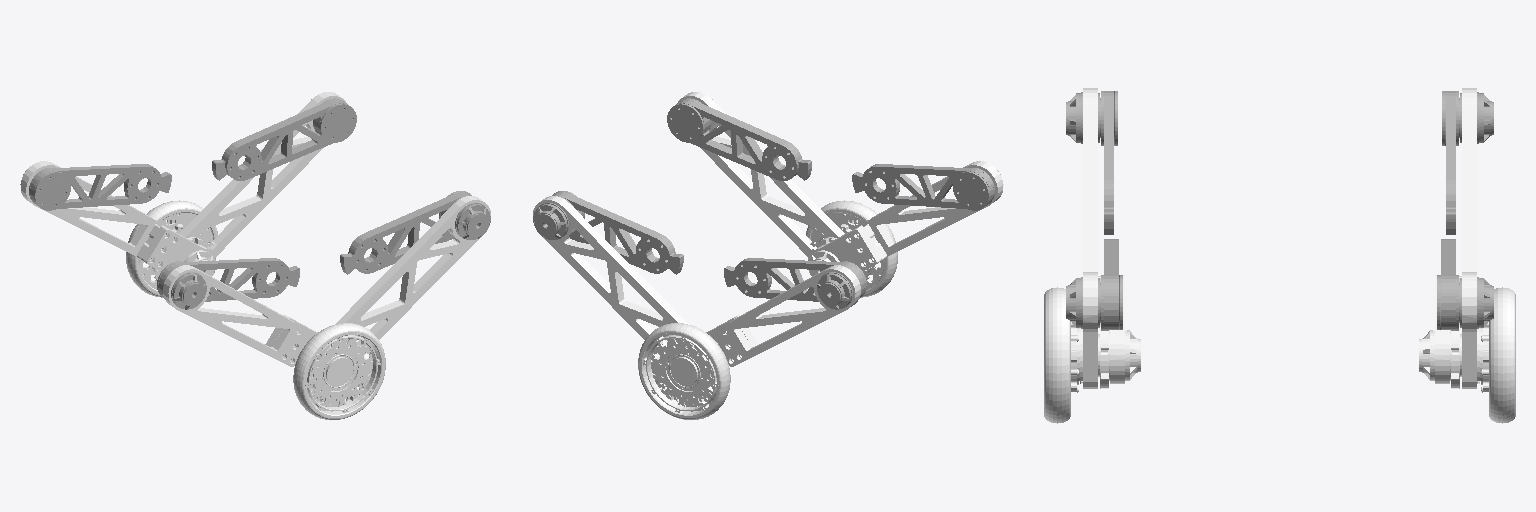
URDF robot description (chassis-rl):
<?xml version="1.0" encoding="utf-8"?>
<!-- This URDF was automatically created by SolidWorks to URDF Exporter! Originally created by Stephen Brawner (brawner@gmail.com) 
     Commit Version: 1.6.0-4-g7f85cfe  Build Version: 1.6.7995.38578
     For more information, please see http://wiki.ros.org/sw_urdf_exporter -->
<!--
  Joint <limit> values are referenced to the joint zero (q = 0 = CAD assembly pose, the
  retracted end of the mechanical stroke).  They are derived from the two stroke-end
  ABSOLUTE link angles recorded in 底盘数据.txt: for a hip, the travel is the change of the
  ham angle; for a knee it is the change of the calf angle RELATIVE to the ham
  (dq = d(calf) - d(ham), ~114.5 deg), because the ham itself rotates too.  The knee values
  are taken from the closed-loop-consistent pose at the stroke end.  The full mechanical
  stroke is preserved (leg length 144.8 mm -> 389.7 mm) and q = 0 lies inside every range;
  read literally as absolute angles, the old values put q = 0 outside six joints and PhysX
  clamped the mechanism on the first step.
-->
<robot
  name="chassis-rl">
  <link
    name="base_link">
    <inertial>
      <origin
        xyz="-0.0067139 -0.00018909 0.0055232"
        rpy="0 0 0" />
      <mass
        value="11.339" />
      <inertia
        ixx="0.013783"
        ixy="-3.6529E-06"
        ixz="-1.0162E-05"
        iyy="0.028471"
        iyz="1.9216E-06"
        izz="0.016412" />
    </inertial>
    <visual>
      <origin
        xyz="0 0 0"
        rpy="0 0 0" />
      <geometry>
        <mesh
          filename="package://chassis-rl/meshes/base_link.STL" />
      </geometry>
      <material
        name="">
        <color
          rgba="1 1 1 1" />
      </material>
    </visual>
    <collision>
      <origin
        xyz="0 0 0"
        rpy="0 0 0" />
      <geometry>
        <mesh
          filename="package://chassis-rl/meshes/base_link.STL" />
      </geometry>
    </collision>
  </link>
  <link
    name="left_front_ham">
    <inertial>
      <origin
        xyz="0.096345 0.0047072 0.017243"
        rpy="0 0 0" />
      <mass
        value="0.34034" />
      <inertia
        ixx="0.00011924"
        ixy="1.7575E-06"
        ixz="-0.00011569"
        iyy="0.00081315"
        iyz="3.1438E-07"
        izz="0.00074173" />
    </inertial>
    <visual>
      <origin
        xyz="0 0 0"
        rpy="0 0 0" />
      <geometry>
        <mesh
          filename="package://chassis-rl/meshes/left_front_ham.STL" />
      </geometry>
      <material
        name="">
        <color
          rgba="0.75294 0.75294 0.75294 1" />
      </material>
    </visual>
    <collision>
      <origin
        xyz="0 0 0"
        rpy="0 0 0" />
      <geometry>
        <mesh
          filename="package://chassis-rl/meshes/left_front_ham.STL" />
      </geometry>
    </collision>
  </link>
  <joint
    name="left_front_hip"
    type="revolute">
    <origin
      xyz="0.071525 0.16831 0.030406"
      rpy="0 0 0" />
    <parent
      link="base_link" />
    <child
      link="left_front_ham" />
    <axis
      xyz="0 -1 0" />
    <limit
      lower="-1.488940"
      upper="0.000100"
      effort="40"
      velocity="16.755" />
  </joint>
  <link
    name="left_front_calf">
    <inertial>
      <origin
        xyz="-0.15446 -0.0015817 -0.1132"
        rpy="0 0 0" />
      <mass
        value="0.884" />
      <inertia
        ixx="0.0017587"
        ixy="2.0038E-06"
        ixz="-0.0019248"
        iyy="0.0046642"
        iyz="1.9296E-06"
        izz="0.0029982" />
    </inertial>
    <visual>
      <origin
        xyz="0 0 0"
        rpy="0 0 0" />
      <geometry>
        <mesh
          filename="package://chassis-rl/meshes/left_front_calf.STL" />
      </geometry>
      <material
        name="">
        <color
          rgba="1 1 1 1" />
      </material>
    </visual>
    <collision>
      <origin
        xyz="0 0 0"
        rpy="0 0 0" />
      <geometry>
        <mesh
          filename="package://chassis-rl/meshes/left_front_calf.STL" />
      </geometry>
    </collision>
  </link>
  <joint
    name="left_front_knee"
    type="revolute">
    <origin
      xyz="0.14273 0.021 0.025547"
      rpy="0 0 0" />
    <parent
      link="left_front_ham" />
    <child
      link="left_front_calf" />
    <axis
      xyz="0 -1 0" />
    <limit
      lower="-0.000100"
      upper="1.999047"
      effort="40"
      velocity="16.755" />
  </joint>
  <link
    name="left_wheel">
    <inertial>
      <origin
        xyz="1.2603E-14 -0.0039251 9.9781E-15"
        rpy="0 0 0" />
      <mass
        value="0.337" />
      <inertia
        ixx="0.00048617"
        ixy="4.6512E-18"
        ixz="-2.874E-07"
        iyy="0.00095993"
        iyz="8.0586E-18"
        izz="0.00048652" />
    </inertial>
    <visual>
      <origin
        xyz="0 0 0"
        rpy="0 0 0" />
      <geometry>
        <mesh
          filename="package://chassis-rl/meshes/left_wheel.STL" />
      </geometry>
      <material
        name="">
        <color
          rgba="1 1 1 1" />
      </material>
    </visual>
    <collision>
      <origin
        xyz="0 0 0"
        rpy="0 0 0" />
      <geometry>
        <mesh
          filename="package://chassis-rl/meshes/left_wheel.STL" />
      </geometry>
    </collision>
  </link>
  <joint
    name="wheel_left"
    type="continuous">
    <origin
      xyz="-0.21773 0.034945 -0.15966"
      rpy="0 0 0" />
    <parent
      link="left_front_calf" />
    <child
      link="left_wheel" />
    <axis
      xyz="0 -1 0" />
    <limit
      effort="4.92"
      velocity="61.4705" />
  </joint>
  <link
    name="left_back_ham">
    <inertial>
      <origin
        xyz="-0.10143 0.0054426 0.018159"
        rpy="0 0 0" />
      <mass
        value="0.26495" />
      <inertia
        ixx="8.4309E-05"
        ixy="-2.2099E-10"
        ixz="8.0509E-05"
        iyy="0.00057487"
        iyz="8.2261E-10"
        izz="0.0005218" />
    </inertial>
    <visual>
      <origin
        xyz="0 0 0"
        rpy="0 0 0" />
      <geometry>
        <mesh
          filename="package://chassis-rl/meshes/left_back_ham.STL" />
      </geometry>
      <material
        name="">
        <color
          rgba="0.75294 0.75294 0.75294 1" />
      </material>
    </visual>
    <collision>
      <origin
        xyz="0 0 0"
        rpy="0 0 0" />
      <geometry>
        <mesh
          filename="package://chassis-rl/meshes/left_back_ham.STL" />
      </geometry>
    </collision>
  </link>
  <joint
    name="left_back_hip"
    type="revolute">
    <origin
      xyz="-0.078475 0.17081 0.030406"
      rpy="0 0 0" />
    <parent
      link="base_link" />
    <child
      link="left_back_ham" />
    <axis
      xyz="0 -1 0" />
    <limit
      lower="-0.000100"
      upper="1.489639"
      effort="40"
      velocity="16.755" />
  </joint>
  <link
    name="left_back_calf">
    <inertial>
      <origin
        xyz="0.11689 -0.0085987 -0.086919"
        rpy="0 0 0" />
      <mass
        value="0.35489" />
      <inertia
        ixx="0.00051979"
        ixy="6.742E-07"
        ixz="0.00053625"
        iyy="0.0013558"
        iyz="-5.4728E-07"
        izz="0.0008489" />
    </inertial>
    <visual>
      <origin
        xyz="0 0 0"
        rpy="0 0 0" />
      <geometry>
        <mesh
          filename="package://chassis-rl/meshes/left_back_calf.STL" />
      </geometry>
      <material
        name="">
        <color
          rgba="1 1 1 1" />
      </material>
    </visual>
    <collision>
      <origin
        xyz="0 0 0"
        rpy="0 0 0" />
      <geometry>
        <mesh
          filename="package://chassis-rl/meshes/left_back_calf.STL" />
      </geometry>
    </collision>
  </link>
  <joint
    name="left_back_knee"
    type="revolute">
    <origin
      xyz="-0.14273 0.0185 0.025549"
      rpy="0 0 0" />
    <parent
      link="left_back_ham" />
    <child
      link="left_back_calf" />
    <axis
      xyz="0 -1 0" />
    <limit
      lower="-1.999500"
      upper="0.000100"
      effort="40"
      velocity="16.755" />
  </joint>
  <link
    name="right_back_ham">
    <inertial>
      <origin
        xyz="0.10123 0.005343 0.018123"
        rpy="0 0 0" />
      <mass
        value="0.26364" />
      <inertia
        ixx="8.4073E-05"
        ixy="2.1027E-10"
        ixz="-8.0509E-05"
        iyy="0.00057442"
        iyz="7.8315E-10"
        izz="0.00052156" />
    </inertial>
    <visual>
      <origin
        xyz="0 0 0"
        rpy="0 0 0" />
      <geometry>
        <mesh
          filename="package://chassis-rl/meshes/right_back_ham.STL" />
      </geometry>
      <material
        name="">
        <color
          rgba="0.75294 0.75294 0.75294 1" />
      </material>
    </visual>
    <collision>
      <origin
        xyz="0 0 0"
        rpy="0 0 0" />
      <geometry>
        <mesh
          filename="package://chassis-rl/meshes/right_back_ham.STL" />
      </geometry>
    </collision>
  </link>
  <joint
    name="right_back_hip"
    type="revolute">
    <origin
      xyz="-0.078475 -0.17019 0.030406"
      rpy="0 0 -3.1416" />
    <parent
      link="base_link" />
    <child
      link="right_back_ham" />
    <axis
      xyz="0 -1 0" />
    <limit
      lower="-1.489639"
      upper="0.000100"
      effort="40"
      velocity="16.755" />
  </joint>
  <link
    name="right_back_calf">
    <inertial>
      <origin
        xyz="-0.11906 -0.0091591 -0.088474"
        rpy="0 0 0" />
      <mass
        value="0.36608" />
      <inertia
        ixx="0.00052488"
        ixy="-6.9306E-07"
        ixz="-0.00053875"
        iyy="0.0013671"
        iyz="-5.6111E-07"
        izz="0.00085556" />
    </inertial>
    <visual>
      <origin
        xyz="0 0 0"
        rpy="0 0 0" />
      <geometry>
        <mesh
          filename="package://chassis-rl/meshes/right_back_calf.STL" />
      </geometry>
      <material
        name="">
        <color
          rgba="1 1 1 1" />
      </material>
    </visual>
    <collision>
      <origin
        xyz="0 0 0"
        rpy="0 0 0" />
      <geometry>
        <mesh
          filename="package://chassis-rl/meshes/right_back_calf.STL" />
      </geometry>
    </collision>
  </link>
  <joint
    name="right_back_knee"
    type="revolute">
    <origin
      xyz="0.14273 0.0185 0.025549"
      rpy="0 0 0" />
    <parent
      link="right_back_ham" />
    <child
      link="right_back_calf" />
    <axis
      xyz="0 -1 0" />
    <limit
      lower="-0.000100"
      upper="1.999500"
      effort="40"
      velocity="16.755" />
  </joint>
  <link
    name="right_front_ham">
    <inertial>
      <origin
        xyz="-0.096166 0.0046172 0.017211"
        rpy="0 0 0" />
      <mass
        value="0.33903" />
      <inertia
        ixx="0.00011901"
        ixy="-1.7575E-06"
        ixz="0.00011569"
        iyy="0.0008127"
        iyz="3.144E-07"
        izz="0.0007415" />
    </inertial>
    <visual>
      <origin
        xyz="0 0 0"
        rpy="0 0 0" />
      <geometry>
        <mesh
          filename="package://chassis-rl/meshes/right_front_ham.STL" />
      </geometry>
      <material
        name="">
        <color
          rgba="0.75294 0.75294 0.75294 1" />
      </material>
    </visual>
    <collision>
      <origin
        xyz="0 0 0"
        rpy="0 0 0" />
      <geometry>
        <mesh
          filename="package://chassis-rl/meshes/right_front_ham.STL" />
      </geometry>
    </collision>
  </link>
  <joint
    name="right_front_hip"
    type="revolute">
    <origin
      xyz="0.071525 -0.16769 0.030406"
      rpy="0 0 -3.1416" />
    <parent
      link="base_link" />
    <child
      link="right_front_ham" />
    <axis
      xyz="0 -1 0" />
    <limit
      lower="-0.000100"
      upper="1.488940"
      effort="40"
      velocity="16.755" />
  </joint>
  <link
    name="right_front_calf">
    <inertial>
      <origin
        xyz="0.15431 -0.0015063 -0.11309"
        rpy="0 0 0" />
      <mass
        value="0.882" />
      <inertia
        ixx="0.0017587"
        ixy="-2.0041E-06"
        ixz="0.0019251"
        iyy="0.0046642"
        iyz="1.9298E-06"
        izz="0.0029984" />
    </inertial>
    <visual>
      <origin
        xyz="0 0 0"
        rpy="0 0 0" />
      <geometry>
        <mesh
          filename="package://chassis-rl/meshes/right_front_calf.STL" />
      </geometry>
      <material
        name="">
        <color
          rgba="1 1 1 1" />
      </material>
    </visual>
    <collision>
      <origin
        xyz="0 0 0"
        rpy="0 0 0" />
      <geometry>
        <mesh
          filename="package://chassis-rl/meshes/right_front_calf.STL" />
      </geometry>
    </collision>
  </link>
  <joint
    name="right_front_knee"
    type="revolute">
    <origin
      xyz="-0.14273 0.021 0.025547"
      rpy="0 0 0" />
    <parent
      link="right_front_ham" />
    <child
      link="right_front_calf" />
    <axis
      xyz="0 -1 0" />
    <limit
      lower="-1.999047"
      upper="0.000100"
      effort="40"
      velocity="16.755" />
  </joint>
  <link
    name="right_wheel">
    <inertial>
      <origin
        xyz="1.016E-14 -0.0038064 1.2421E-15"
        rpy="0 0 0" />
      <mass
        value="0.337" />
      <inertia
        ixx="0.00049754"
        ixy="6.2850E-18"
        ixz="2.7173E-07"
        iyy="0.00098169"
        iyz="1.5037E-18"
        izz="0.00049786" />
    </inertial>
    <visual>
      <origin
        xyz="0 0 0"
        rpy="0 0 0" />
      <geometry>
        <mesh
          filename="package://chassis-rl/meshes/right_wheel.STL" />
      </geometry>
      <material
        name="">
        <color
          rgba="1 1 1 1" />
      </material>
    </visual>
    <collision>
      <origin
        xyz="0 0 0"
        rpy="0 0 0" />
      <geometry>
        <mesh
          filename="package://chassis-rl/meshes/right_wheel.STL" />
      </geometry>
    </collision>
  </link>
  <joint
    name="wheel_right"
    type="continuous">
    <origin
      xyz="0.21773 0.034945 -0.15966"
      rpy="0 0 0" />
    <parent
      link="right_front_calf" />
    <child
      link="right_wheel" />
    <axis
      xyz="0 -1 0" />
    <limit
      effort="4.92"
      velocity="61.4705" />
  </joint>
  <!--
    Closed chain (five-bar wheel-leg): the wheel axle also sits in the back calf's axle hole.
    Represented with the Isaac Sim <loop_joint> URDF extension (isaacsim.asset.importer.urdf
    >= 2.1.0), exactly as in assets/infantry-rl/urdf/infantry-rl-sim.urdf.  The importer turns
    each one into a PhysicsSphericalJoint OUTSIDE the articulation, so PhysX enforces the loop
    as a real constraint instead of rejecting a closed articulation.  Each link contributes the
    axle-centre point in its own link frame, computed from this URDF's tree at q = 0 (the CAD
    assembly pose).  No other physical property of this URDF was modified.
  -->
  <loop_joint name="left_calf_axle" type="spherical">
    <link1 link="left_wheel" rpy="0 0 0" xyz="0.00000000 0.00000000 0.00000000" />
    <link2 link="left_back_calf" rpy="0 0 0" xyz="0.21773000 0.03494500 -0.15966200" />
  </loop_joint>
  <loop_joint name="right_calf_axle" type="spherical">
    <link1 link="right_wheel" rpy="0 0 0" xyz="0.00000000 0.00000000 0.00000000" />
    <link2 link="right_back_calf" rpy="0 0 0" xyz="-0.21772998 0.03494390 -0.15966200" />
  </loop_joint>
</robot>

--- What the picture shows (computed from the rendered views, not written in the file) ---
The picture shows the robot from 3 angles, left to right: view 1: azimuth 30°, elevation 25°; view 2: azimuth 150°, elevation 25°; view 3: azimuth 270°, elevation 25°; orthographic projection.
Robot: chassis-rl — 11 links, 10 joints (8 revolute, 2 continuous); root link base_link; default pose: every joint at zero.
Visible links, largest first — view 1: right_front_calf, right_wheel, left_front_ham, left_front_calf, left_back_ham, right_front_ham, left_back_calf, right_back_calf, right_back_ham, left_wheel; view 2: left_front_calf, left_wheel, right_front_ham, right_front_calf, right_back_ham, left_front_ham, right_back_calf, left_back_calf, left_back_ham, right_wheel; view 3: left_front_calf, right_front_calf, left_back_calf, right_back_calf, left_wheel, right_wheel, left_back_ham, right_back_ham, left_front_ham, right_front_ham.
Link boxes in pixels (box(x1,y1,x2,y2)): right_front_calf: box(306, 196, 490, 390); right_wheel: box(293, 323, 385, 419); left_front_ham: box(212, 98, 356, 180); left_front_calf: box(152, 92, 345, 275); left_back_ham: box(23, 164, 171, 210); right_front_ham: box(340, 191, 490, 274); left_back_calf: box(20, 161, 215, 270); right_back_calf: box(163, 265, 317, 366); right_back_ham: box(157, 258, 299, 309); left_wheel: box(126, 200, 217, 297); left_front_calf: box(533, 196, 717, 390); left_wheel: box(638, 323, 730, 419); right_front_ham: box(667, 98, 811, 180); right_front_calf: box(678, 92, 871, 275); right_back_ham: box(852, 164, 1000, 210); left_front_ham: box(533, 191, 683, 274); right_back_calf: box(808, 161, 1003, 270); left_back_calf: box(706, 265, 860, 366); left_back_ham: box(724, 258, 866, 309); right_wheel: box(806, 200, 897, 297); left_front_calf: box(1419, 273, 1488, 392); right_front_calf: box(1071, 273, 1140, 392); left_back_calf: box(1435, 88, 1476, 383); right_back_calf: box(1083, 88, 1124, 383); left_wheel: box(1489, 287, 1515, 423); right_wheel: box(1044, 287, 1070, 423); left_back_ham: box(1442, 91, 1493, 234); right_back_ham: box(1066, 91, 1117, 234); left_front_ham: box(1437, 239, 1493, 329); right_front_ham: box(1066, 239, 1122, 329).
Bounding box of the posed robot: 0.4953 × 0.4704 × 0.2577 m (x, y, z).
Meshes: 11 distinct files referenced, 10 mesh visuals loaded (10 binary STL); not drawn: 1 (reference not matched to a file when rendering).
